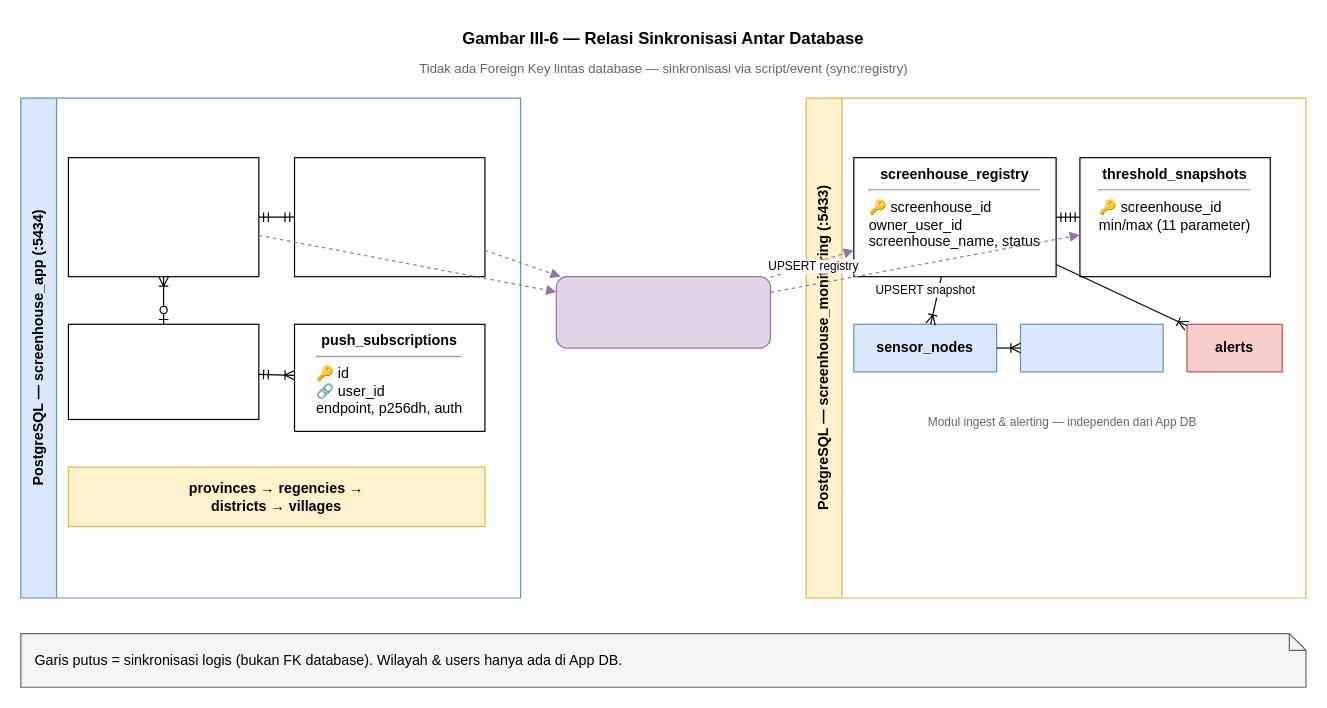
This 1327x708 diagram has some shape labels left out. The shapes that lost their labels are listed below. From the top down, each one's centre as x and y in pixels, then its label:
At [163,216]: "screenhouses 🔑 id owner_user_id name, status latitude, longitude".
At [389,216]: "thresholds 🔑 id 🔗 screenhouse_id UK min/max (11 parameter)".
At [663,311]: "App Service sync:registry / event".
At [1091,347]: "sensor_data".
At [163,371]: "users 🔑 id name, role, status".
